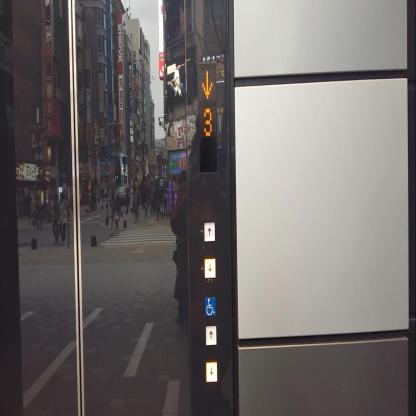CH: (203, 296, 216, 318)
down: (203, 257, 216, 279), (205, 360, 217, 382)
led: (198, 62, 218, 172)
up: (204, 324, 217, 346), (203, 220, 215, 242)
